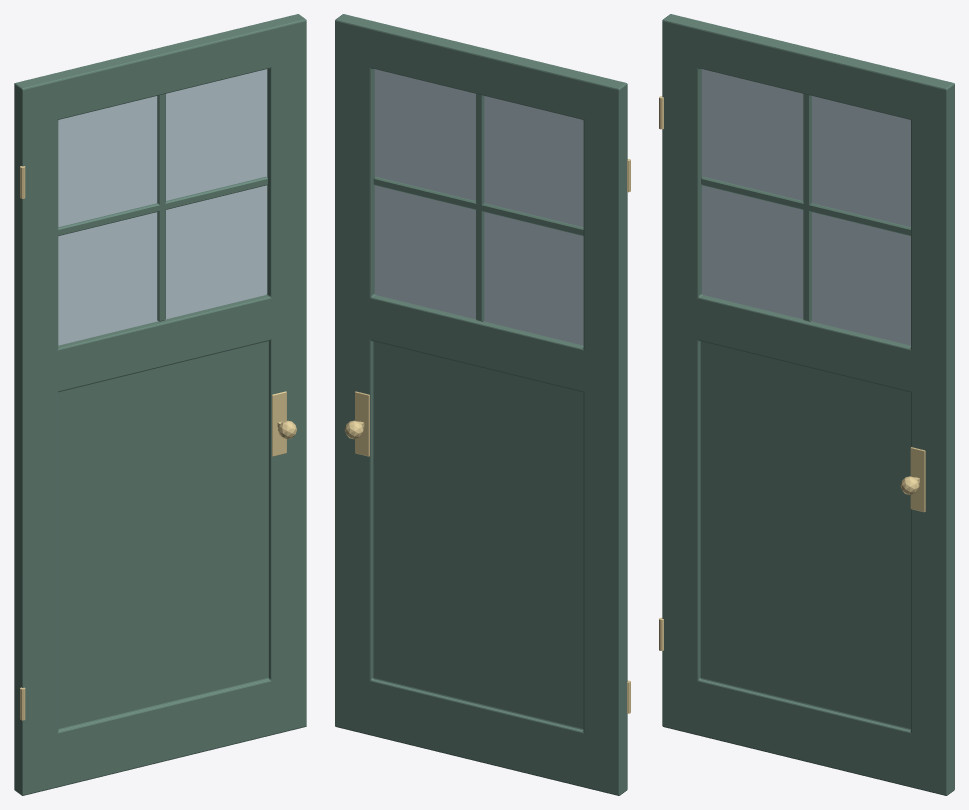
The model's file is door_leaf_front_b.glb.
3 views of the same model, side by side, from view 1: azimuth 30°, elevation 25°; view 2: azimuth 150°, elevation 25°; view 3: azimuth 330°, elevation 25° (orthographic).
Parts seen in each view (by area): view 1: door_leaf_front_b_door_b, door_leaf_front_b_glass, door_leaf_front_b_brass; view 2: door_leaf_front_b_door_b, door_leaf_front_b_glass, door_leaf_front_b_brass; view 3: door_leaf_front_b_door_b, door_leaf_front_b_glass, door_leaf_front_b_brass.
Part boxes in pixels (left/top/right/bottom): door_leaf_front_b_door_b: left=14, top=14, right=306, bottom=795; door_leaf_front_b_glass: left=58, top=69, right=267, bottom=345; door_leaf_front_b_brass: left=20, top=166, right=296, bottom=720; door_leaf_front_b_door_b: left=335, top=14, right=627, bottom=795; door_leaf_front_b_glass: left=374, top=69, right=583, bottom=345; door_leaf_front_b_brass: left=344, top=159, right=630, bottom=713; door_leaf_front_b_door_b: left=662, top=14, right=954, bottom=795; door_leaf_front_b_glass: left=702, top=69, right=910, bottom=345; door_leaf_front_b_brass: left=659, top=96, right=925, bottom=650.
Size of the model in its own units: 0.968 by 2.28 by 0.206.
